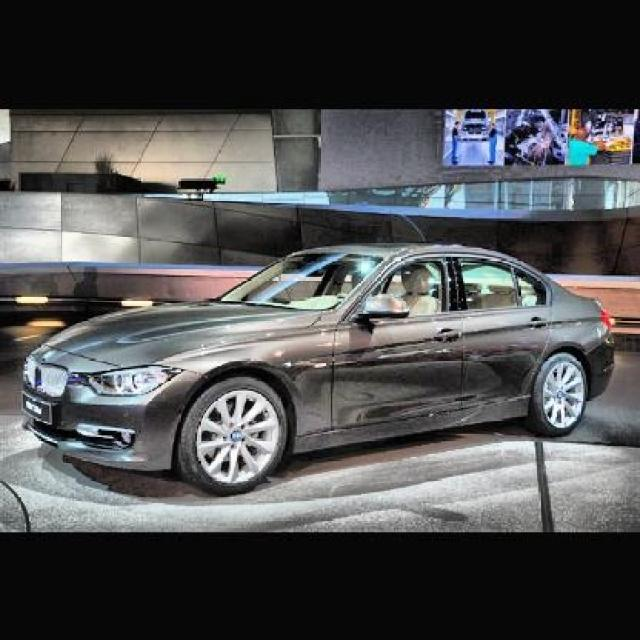black: (40, 227, 588, 479)
